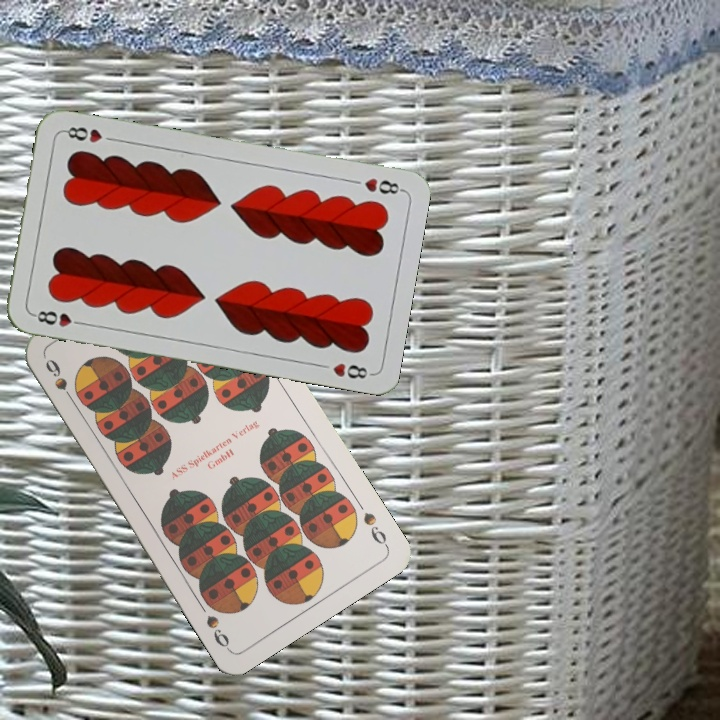H8: (29, 306, 88, 330), (360, 174, 405, 197)
S9: (41, 354, 79, 407), (359, 508, 391, 550)
